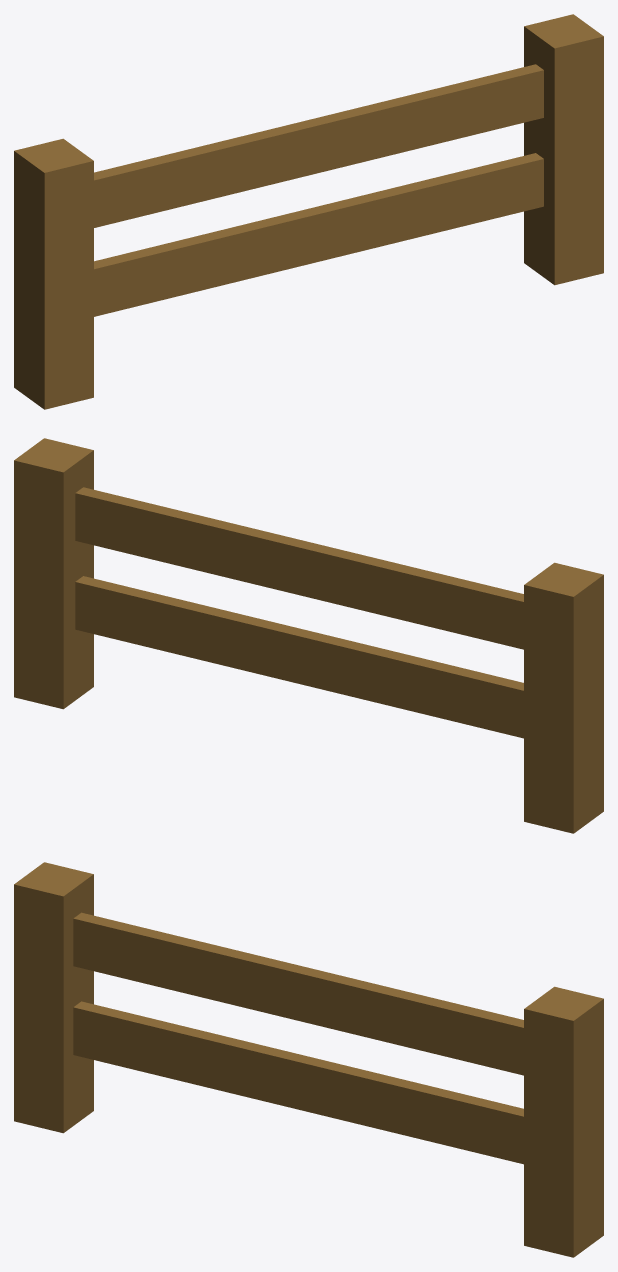
Rendered from Fence_Wood.gltf.
3 views of the same model, one above another, from view 1: azimuth 30°, elevation 25°; view 2: azimuth 150°, elevation 25°; view 3: azimuth 330°, elevation 25° (orthographic).
Parts seen in each view (by area): view 1: SF_Prop_Fence_Wood_01; view 2: SF_Prop_Fence_Wood_01; view 3: SF_Prop_Fence_Wood_01.
Boxes of the visible parts, x1,y1,x2,y2 form: SF_Prop_Fence_Wood_01: (14, 14, 603, 409); SF_Prop_Fence_Wood_01: (14, 438, 603, 833); SF_Prop_Fence_Wood_01: (14, 862, 603, 1257).
Bounding box in the file's own units: 0.0547 × 0.0221 × 0.00516.
1 material, 1 textured.
